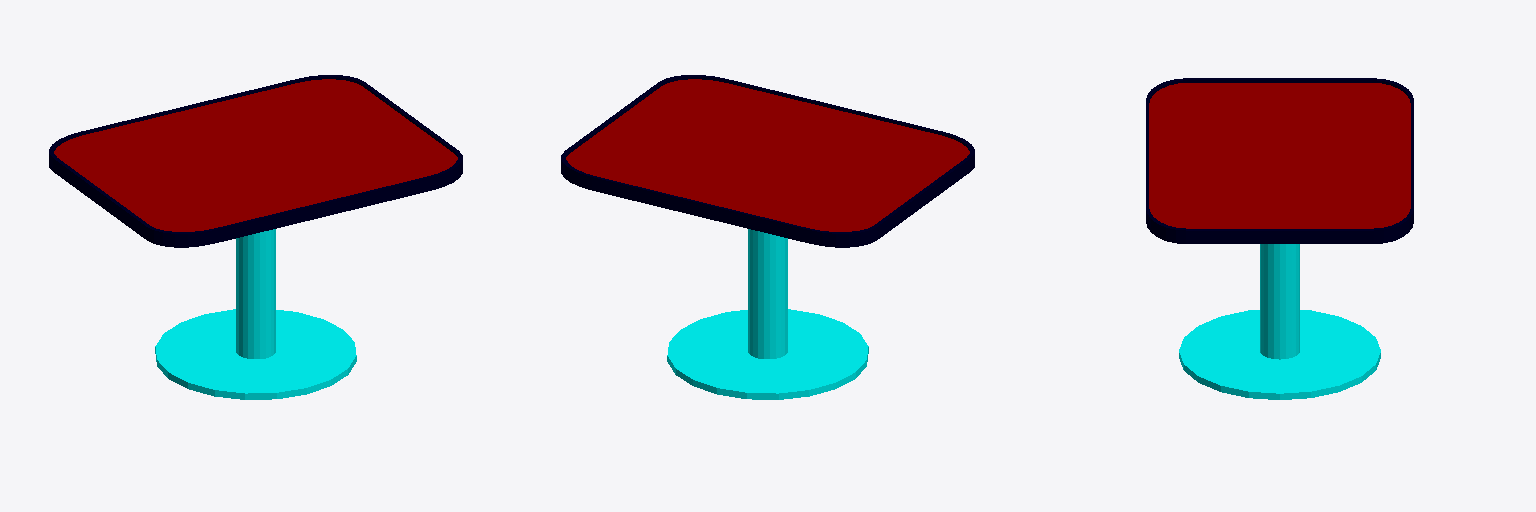
Rendered from TableForTexture.obj.
The picture shows the model from 3 angles: view 1: azimuth 30°, elevation 25°; view 2: azimuth 150°, elevation 25°; view 3: azimuth 270°, elevation 25°; orthographic projection.
Parts seen in each view (by area): view 1: pCylinder1 pCube1, pCylinder2 pCylinder1, pCylinder1; view 2: pCylinder1 pCube1, pCylinder2 pCylinder1, pCylinder1; view 3: pCylinder1 pCube1, pCylinder2 pCylinder1, pCylinder1.
Boxes of the visible parts, <box> form: pCylinder1 pCube1: <box>49,75,462,247</box>; pCylinder2 pCylinder1: <box>155,309,356,399</box>; pCylinder1: <box>236,229,275,358</box>; pCylinder1 pCube1: <box>561,75,974,247</box>; pCylinder2 pCylinder1: <box>667,309,868,399</box>; pCylinder1: <box>748,229,787,358</box>; pCylinder1 pCube1: <box>1146,78,1413,243</box>; pCylinder2 pCylinder1: <box>1179,310,1380,399</box>; pCylinder1: <box>1260,244,1299,359</box>.
Size of the model in its own units: 11.44 by 7.12 by 8.53.